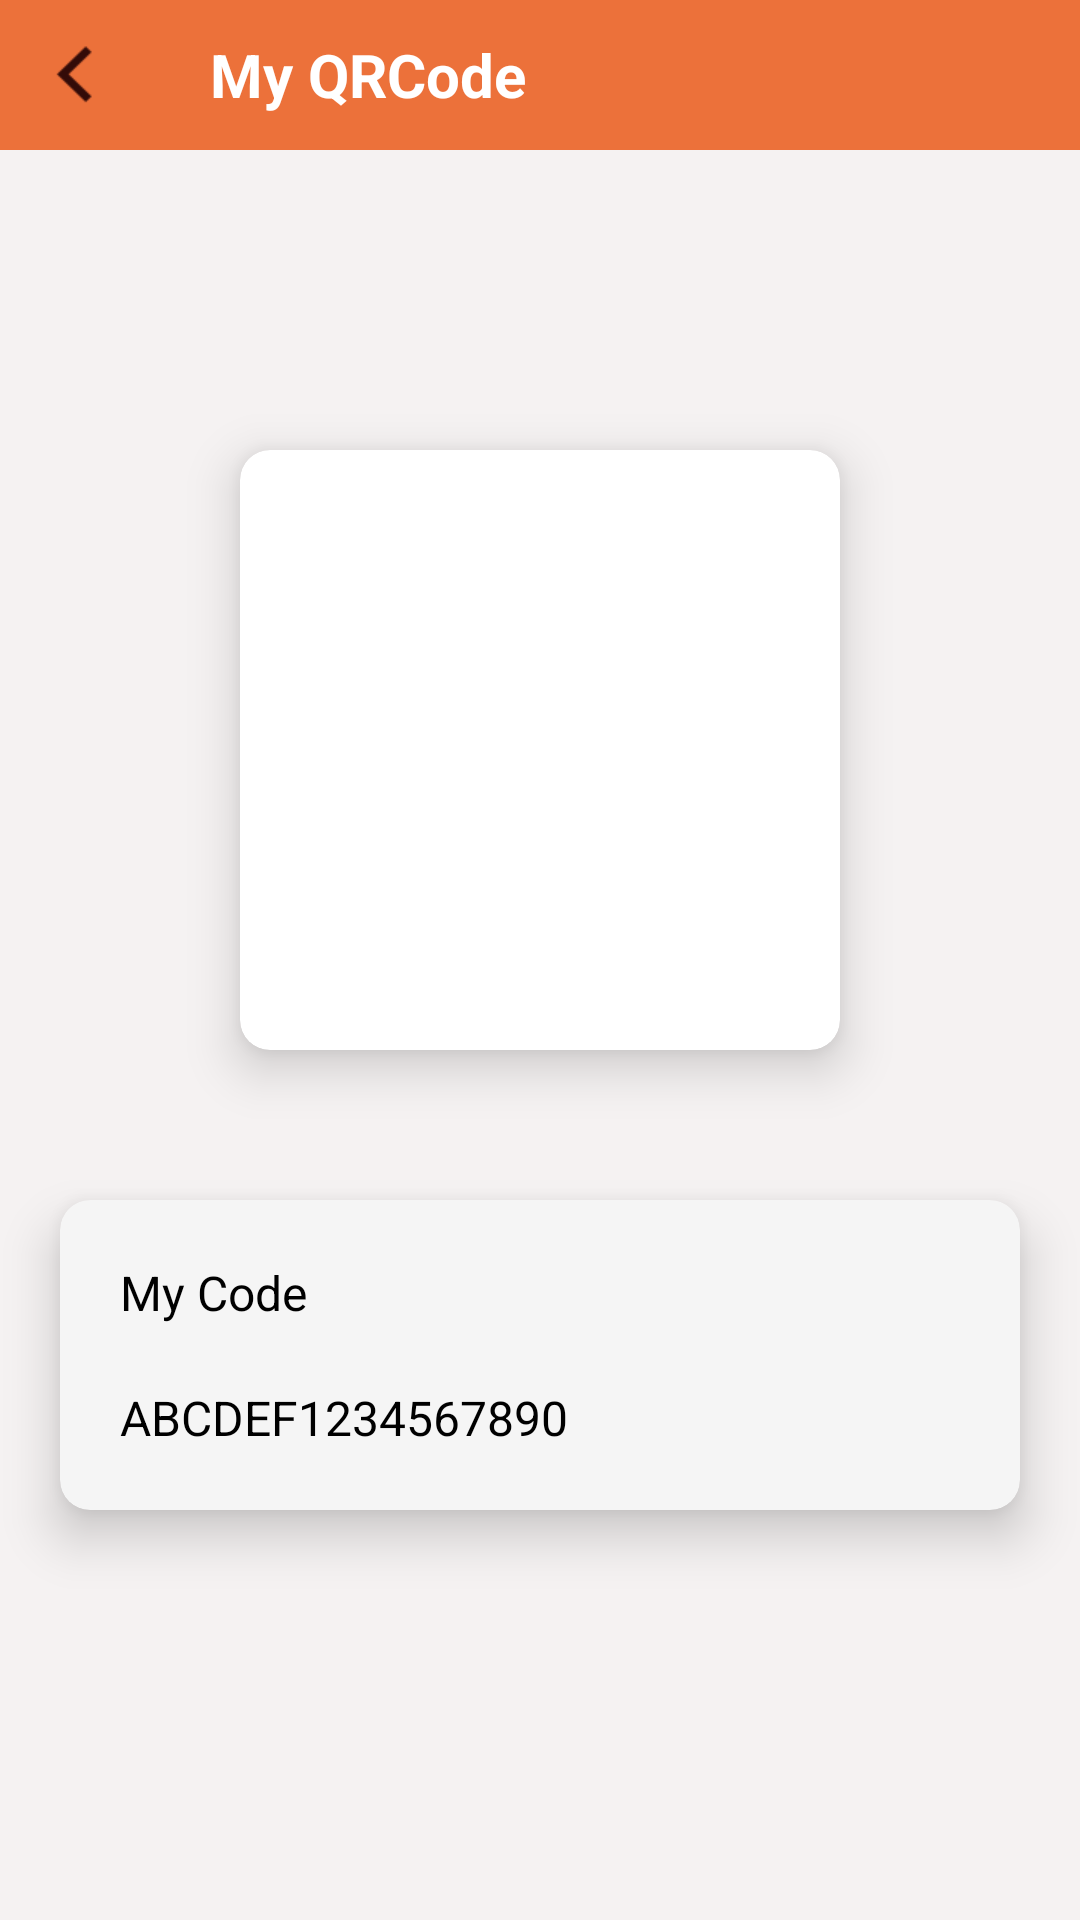

Icons on this 1080x1920 Android screen, each with the point to tap as [x,y]:
back: [74,74]
